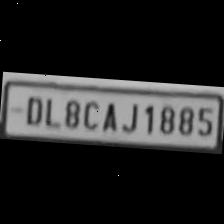1: (138, 99, 156, 134)
5: (194, 101, 214, 136)
8: (154, 100, 178, 134), (174, 101, 196, 135), (60, 95, 80, 129)
A: (98, 96, 119, 132)
C: (78, 95, 100, 130)
D: (20, 90, 44, 124)
J: (118, 96, 140, 132)
L: (40, 94, 60, 128)
